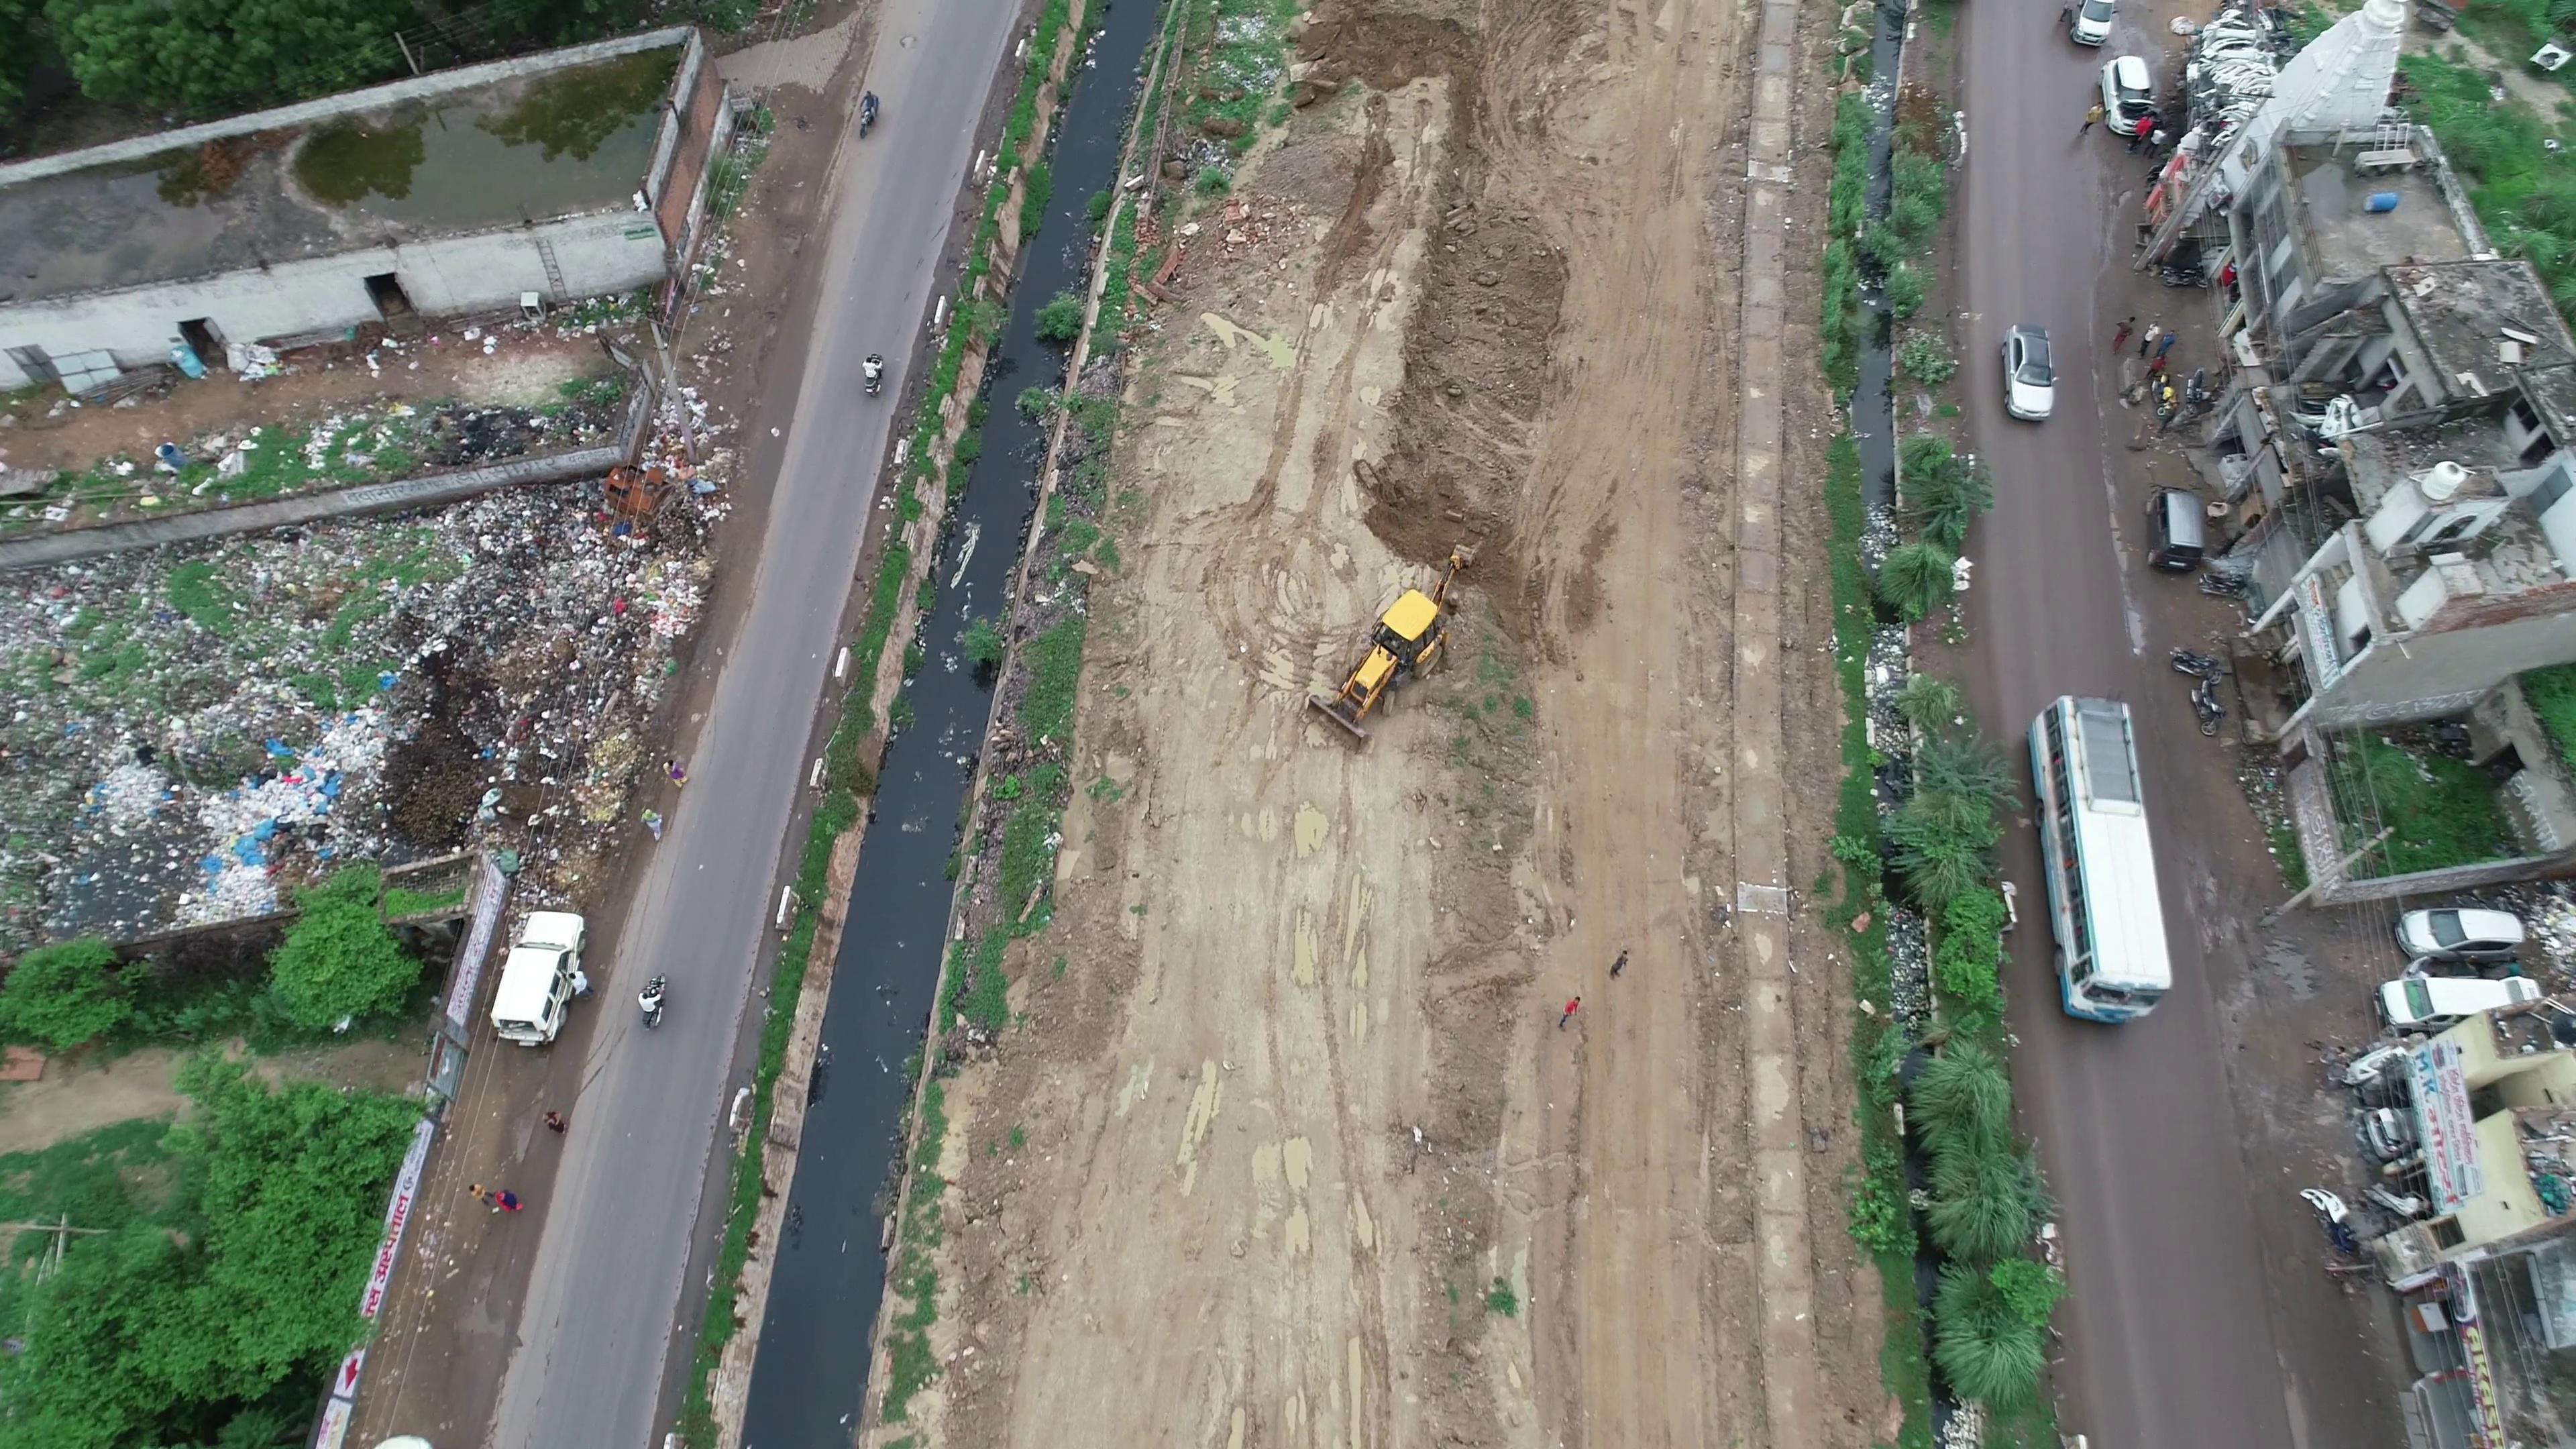Road_side_garbage: (304, 497, 616, 855)
